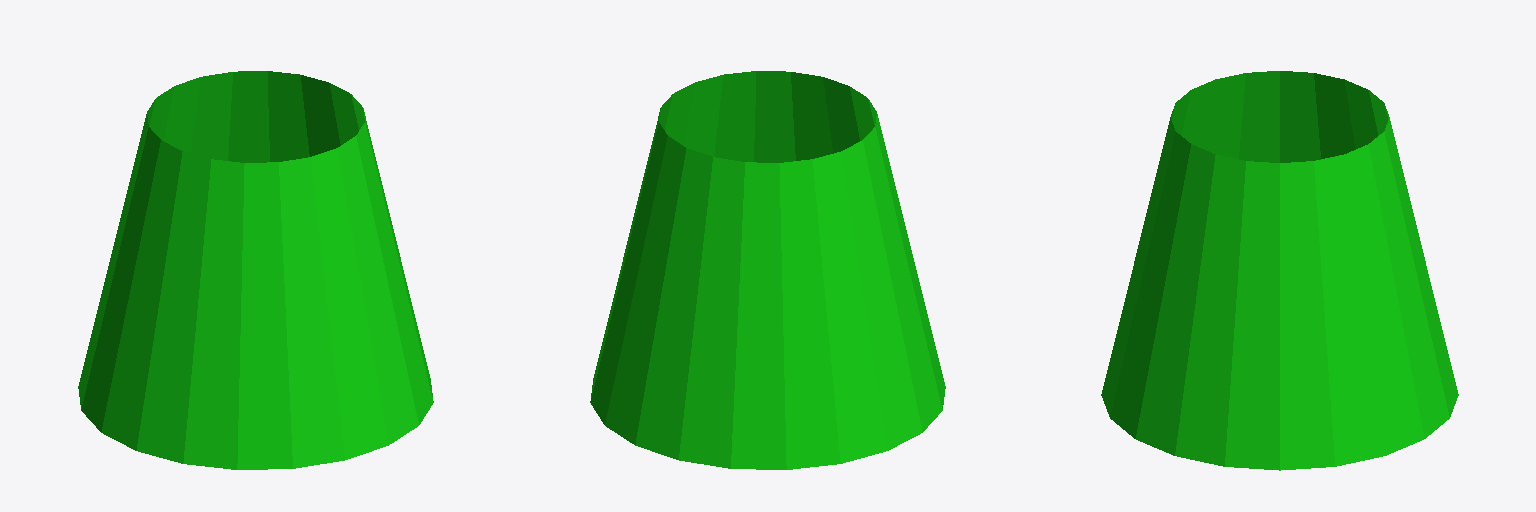
File: skirt1.obj
3 renders of one model, left to right at view 1: azimuth 30°, elevation 25°; view 2: azimuth 150°, elevation 25°; view 3: azimuth 270°, elevation 25°, orthographic.
Size of the model in its own units: 0.489 by 0.42 by 0.489.